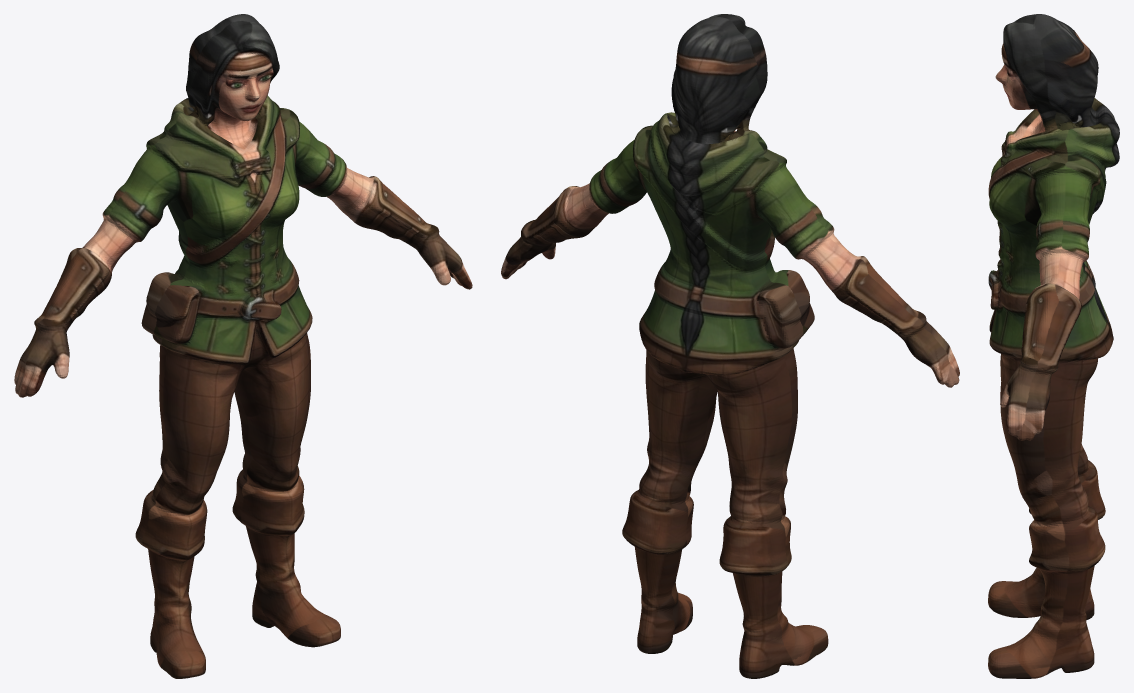
The model's file is guerrera.glb.
3 views of the same model, side by side, from view 1: azimuth 30°, elevation 25°; view 2: azimuth 150°, elevation 25°; view 3: azimuth 270°, elevation 25° (orthographic).
Visible parts, largest first — view 1: world; view 2: world; view 3: world.
Part boxes in pixels (left/top/right/bottom): world: left=14, top=14, right=472, bottom=678; world: left=501, top=14, right=959, bottom=678; world: left=988, top=14, right=1119, bottom=678.
Size of the model in its own units: 1.51 by 2 by 0.3812.
1 material, 1 textured.
